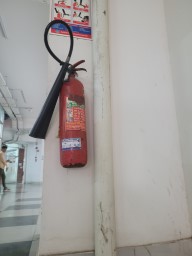fire_extinguisher: (55, 139, 126, 177)
